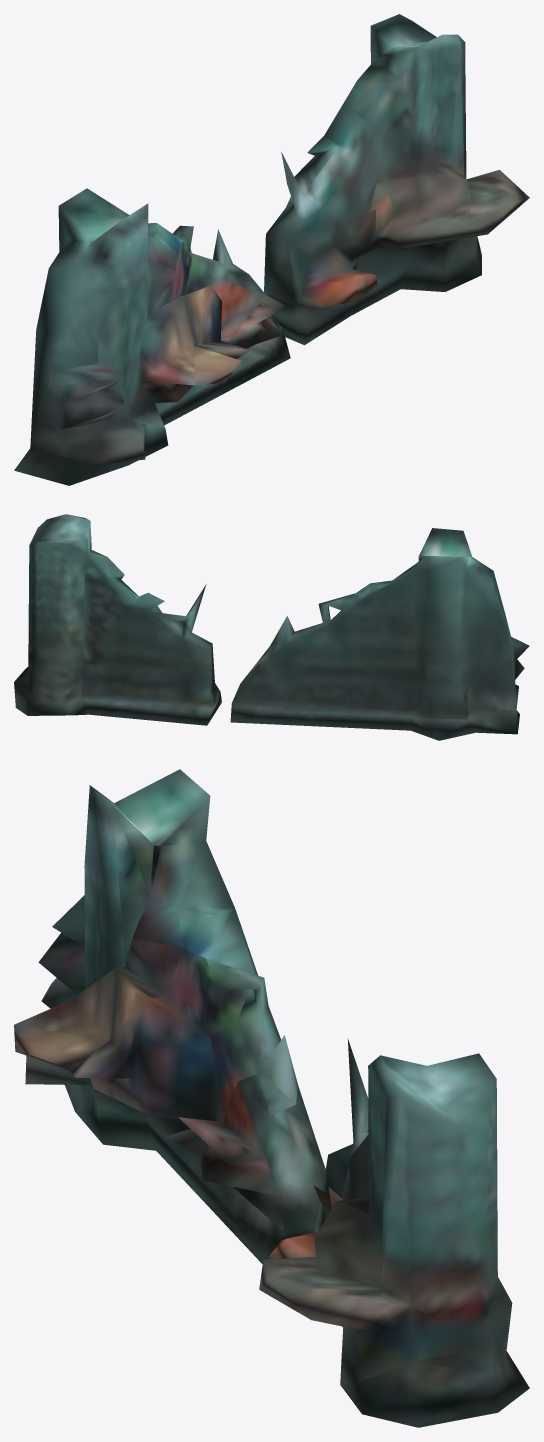
Rendered from Pared_Rota_Medio.glb.
The picture shows the model from 3 angles, top to bottom: view 1: azimuth 30°, elevation 25°; view 2: azimuth 150°, elevation 25°; view 3: azimuth 270°, elevation 25°; orthographic projection. The views are drawn at different scales.
Parts seen in each view (by area): view 1: Pared Rota Medio; view 2: Pared Rota Medio; view 3: Pared Rota Medio.
Boxes of the visible parts, <box> form: Pared Rota Medio: <box>14,14,529,485</box>; Pared Rota Medio: <box>14,514,529,740</box>; Pared Rota Medio: <box>14,769,529,1427</box>.
Size of the model in its own units: 0.1702 by 0.0684 by 0.0971.
1 material, 1 textured.
